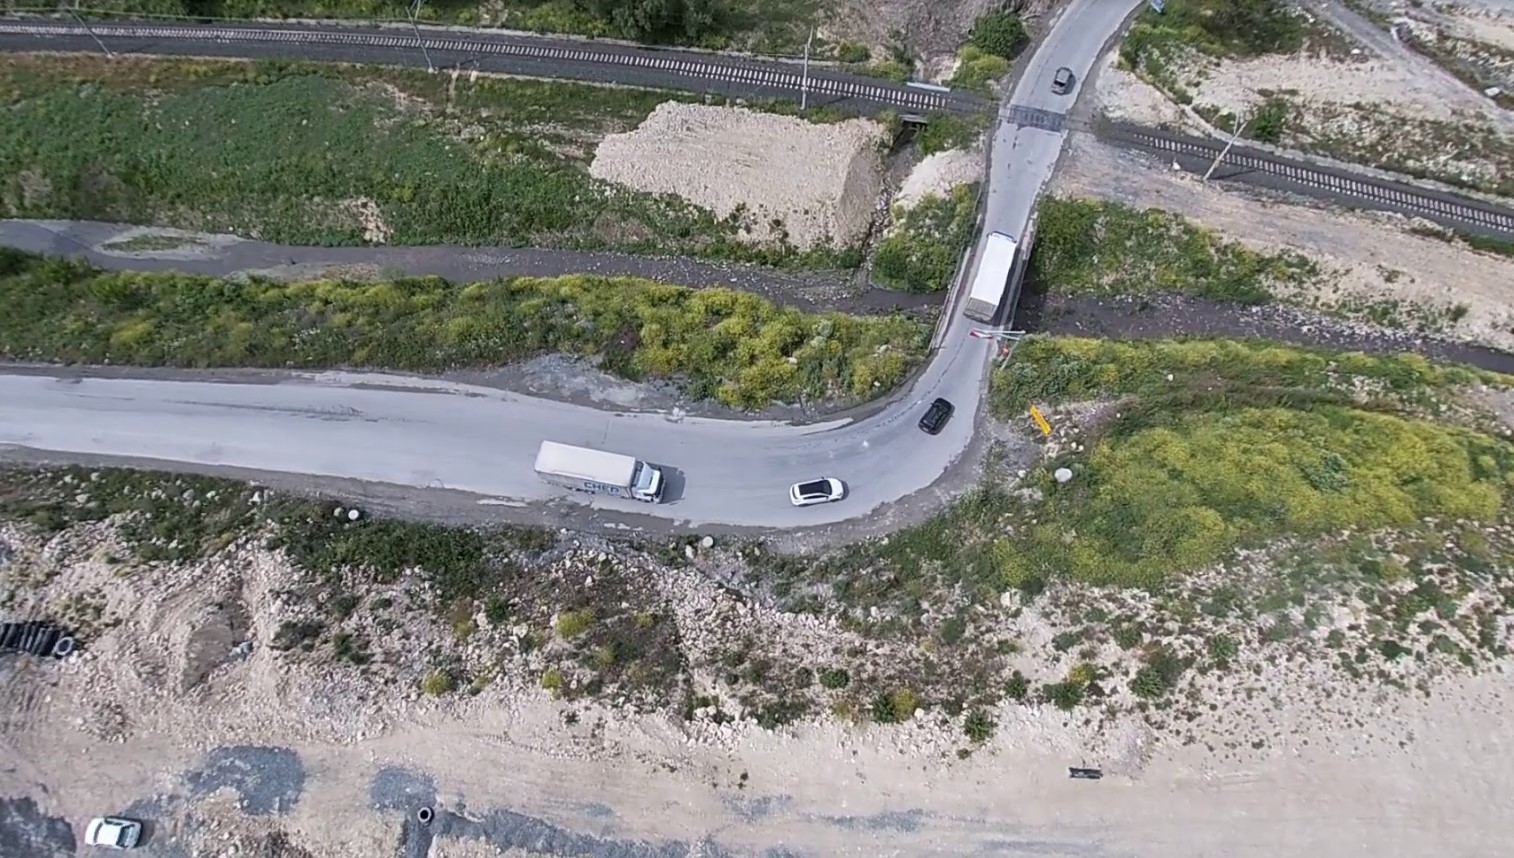araba: (85, 810, 143, 849), (794, 475, 850, 511), (918, 396, 952, 433), (1054, 64, 1076, 94)
kamyon: (531, 436, 673, 500), (964, 229, 1019, 323)
